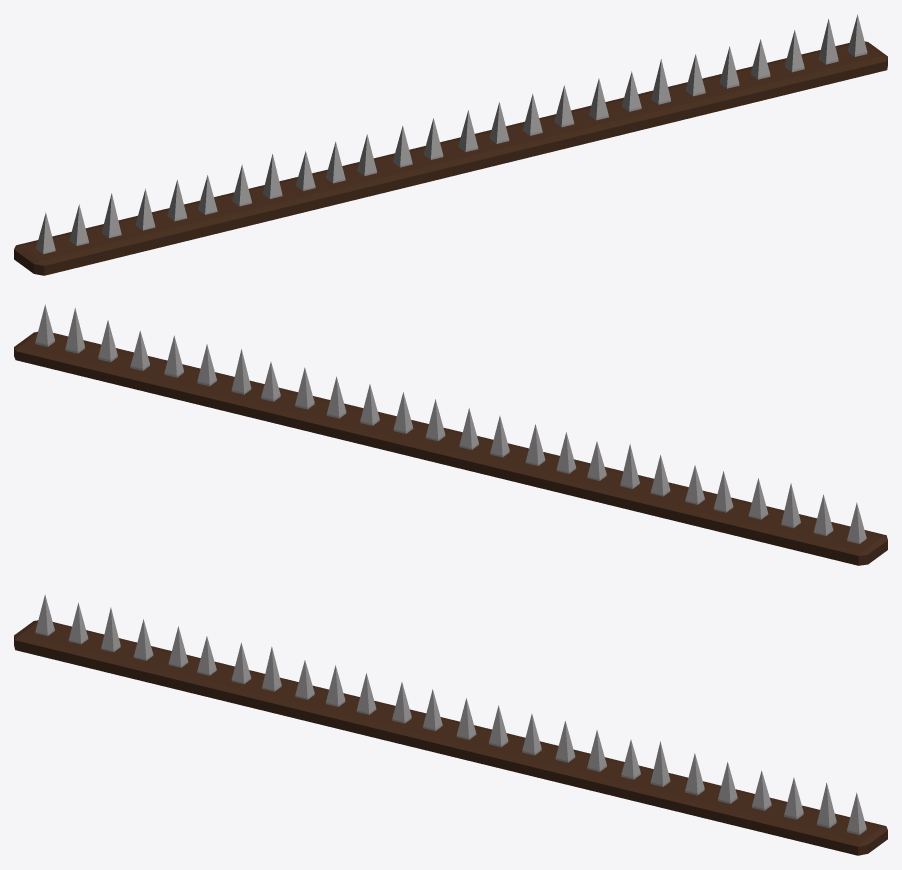
File: LGEMetalSpikeWoodenTrap.fbx
3 renders of one model, top to bottom at view 1: azimuth 30°, elevation 25°; view 2: azimuth 150°, elevation 25°; view 3: azimuth 330°, elevation 25°, orthographic.
Parts seen in each view (by area): view 1: LGEMetalSpikeWoodenTrap; view 2: LGEMetalSpikeWoodenTrap; view 3: LGEMetalSpikeWoodenTrap.
Part boxes in pixels (box(x1,y1,x2,y2)): LGEMetalSpikeWoodenTrap: box(14, 14, 887, 275); LGEMetalSpikeWoodenTrap: box(14, 304, 887, 565); LGEMetalSpikeWoodenTrap: box(14, 594, 887, 855).
Size of the model in its own units: 264 by 15.63 by 15.07.
